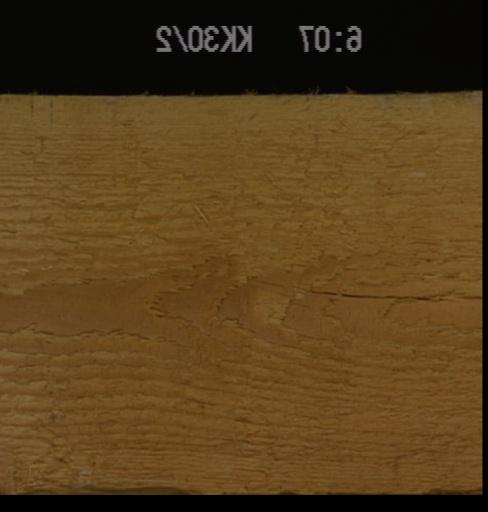split: (306, 285, 480, 297)
wave: (21, 483, 196, 493), (417, 485, 480, 492)
